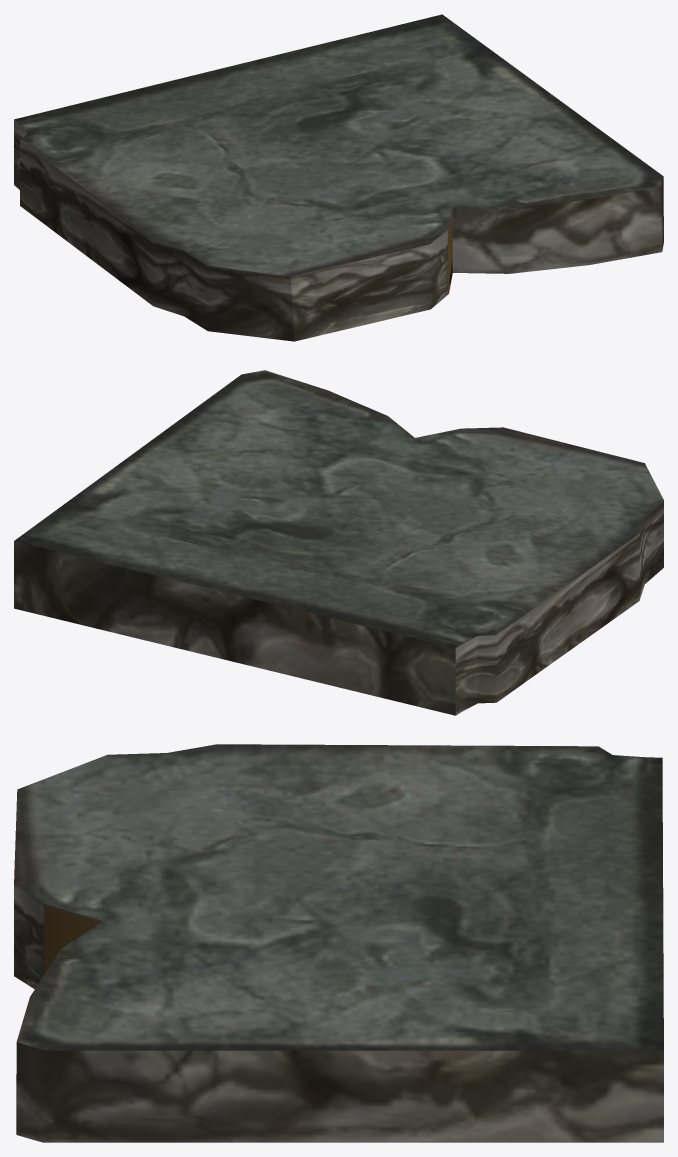
Rendered from Z_dizhuan001.fbx.
3 renders of one model, top to bottom at view 1: azimuth 30°, elevation 25°; view 2: azimuth 150°, elevation 25°; view 3: azimuth 270°, elevation 25°, orthographic. The views are drawn at different scales.
Visible parts, largest first — view 1: Z_dizhuan001; view 2: Z_dizhuan001; view 3: Z_dizhuan001.
Part boxes in pixels (x1,y1,x2,y2): Z_dizhuan001: (14, 14, 663, 341); Z_dizhuan001: (14, 370, 663, 715); Z_dizhuan001: (14, 744, 663, 1142).
Size of the model in its own units: 141 by 19.79 by 127.
